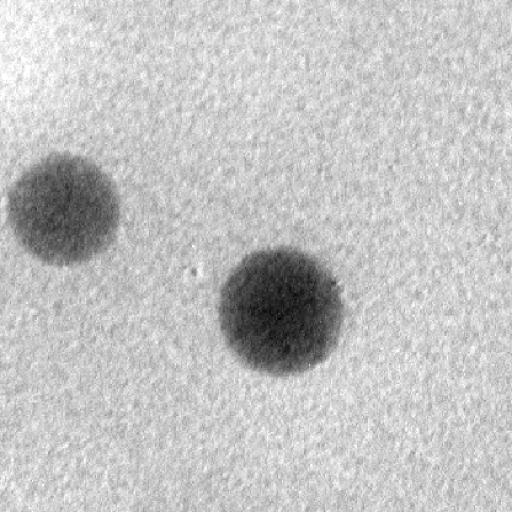Nanoparticles: (214, 245, 348, 379), (7, 149, 127, 269)
